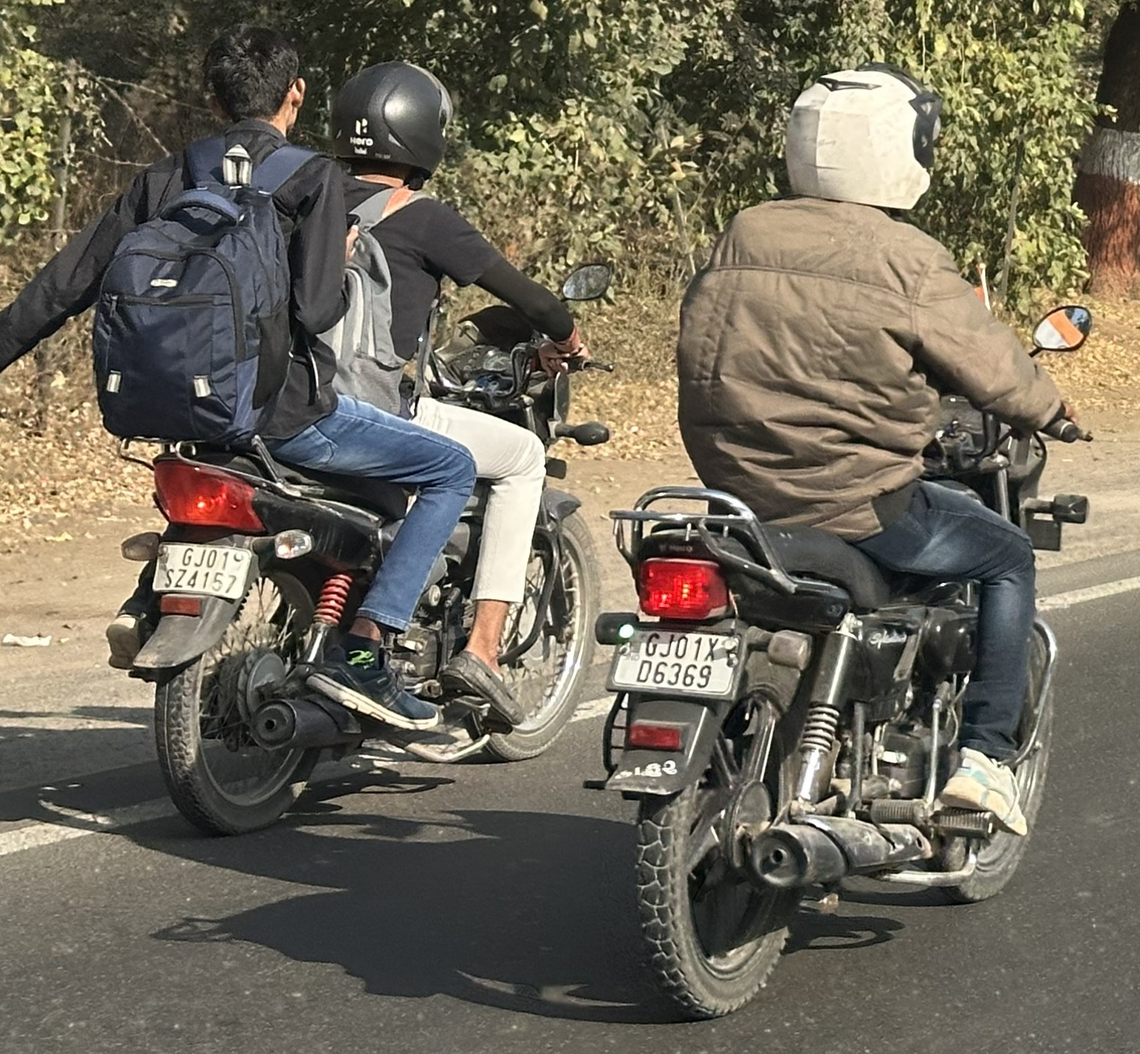BikeWithRider: (0, 12, 636, 849), (573, 53, 1111, 1030)
Helmet: (761, 54, 959, 222), (313, 49, 468, 196)
NoHelmet: (181, 12, 322, 152)
